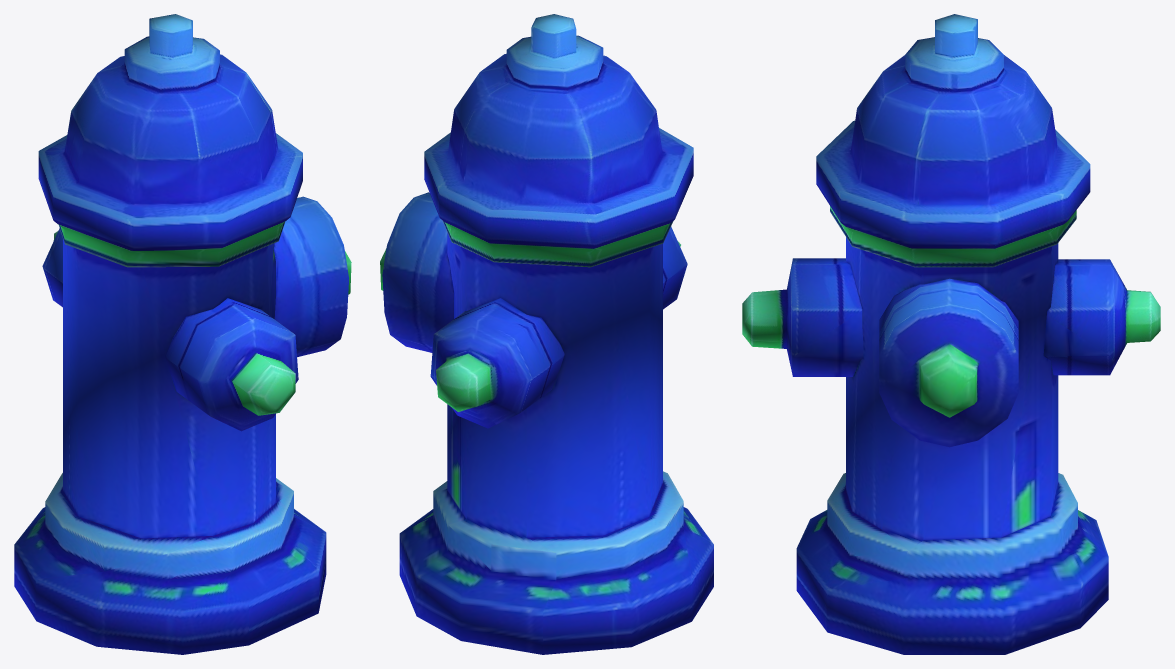
The model's file is fire_hydrant.glb.
The picture shows the model from 3 angles, left to right: view 1: azimuth 30°, elevation 25°; view 2: azimuth 150°, elevation 25°; view 3: azimuth 270°, elevation 25°; orthographic projection.
Visible parts, largest first — view 1: tripo_node_f723dd16-1bf5-4225-9b48-6bf00fc59be9; view 2: tripo_node_f723dd16-1bf5-4225-9b48-6bf00fc59be9; view 3: tripo_node_f723dd16-1bf5-4225-9b48-6bf00fc59be9.
Part boxes in pixels (bbox=[...]): tripo_node_f723dd16-1bf5-4225-9b48-6bf00fc59be9: bbox=[14, 14, 351, 654]; tripo_node_f723dd16-1bf5-4225-9b48-6bf00fc59be9: bbox=[380, 14, 713, 654]; tripo_node_f723dd16-1bf5-4225-9b48-6bf00fc59be9: bbox=[742, 14, 1160, 654].
Size of the model in its own units: 0.5645 by 0.998 by 0.6621.
Materials: 1 (1 with a texture image).
